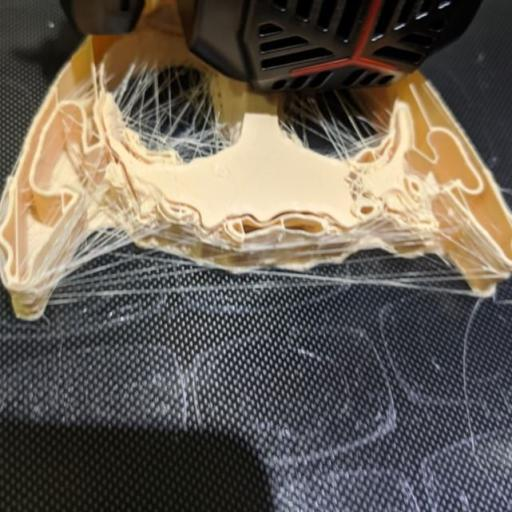stringing: (130, 80, 224, 154), (57, 208, 145, 265), (301, 100, 377, 156)
